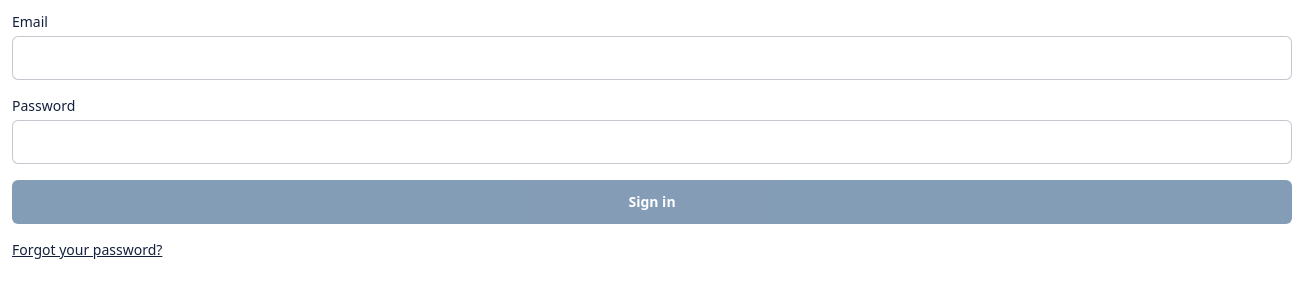
LoginForm › second step › keeps the person on the code step after a wrong code and clears the box
In the field labelled "Email": coordinates (652, 58) [12,36,1292,80], type "ada@example.test"
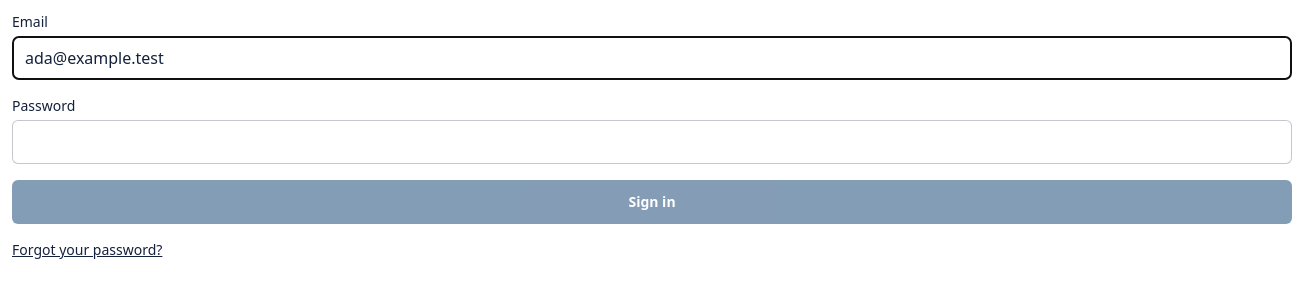
In the password field labelled "Password": coordinates (652, 142) [12,120,1292,164], type "Str0ng-Passphrase-1"
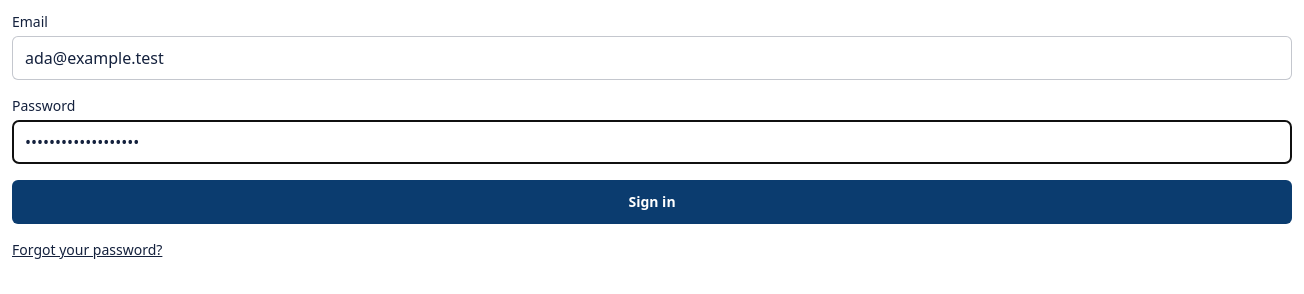
Click the button "Sign in": coordinates (652, 202) [12,180,1292,224]
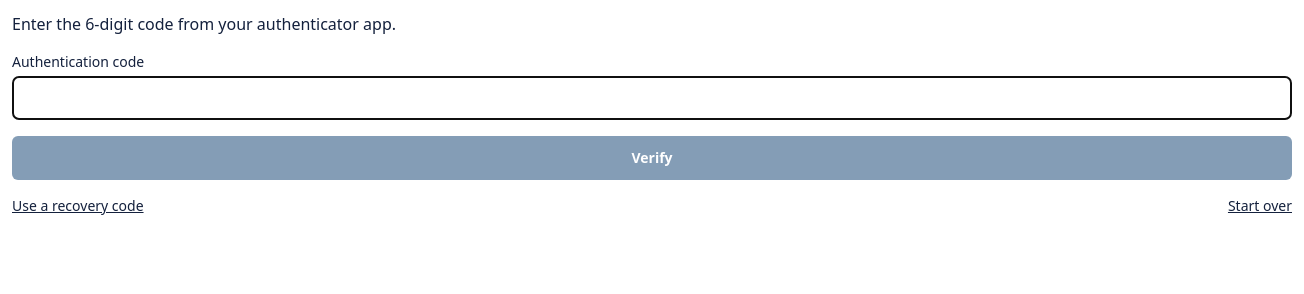
In the field labelled "Authentication code": coordinates (652, 98) [12,76,1292,120], type "000000"
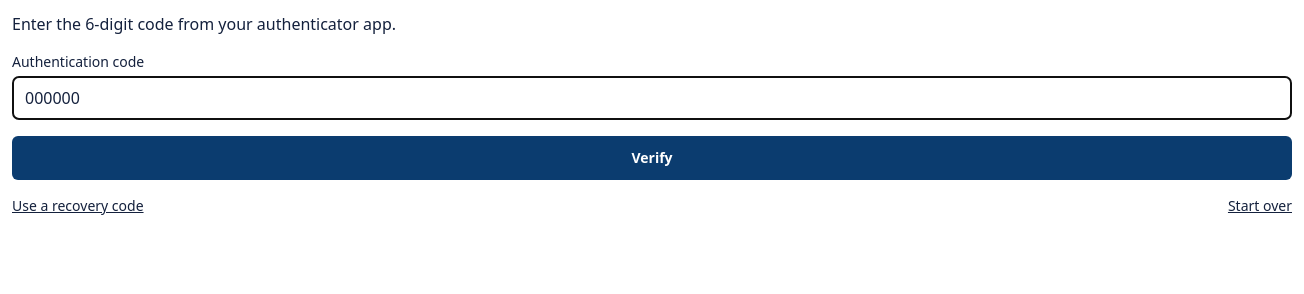
Click the button "Verify": coordinates (652, 158) [12,136,1292,180]
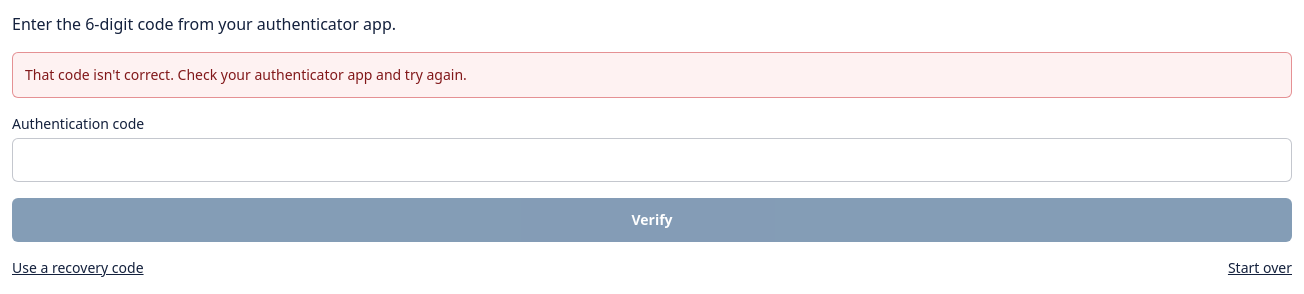
Check: the message shows "That code isn't correct", box [25,65,467,84]
Check: the field labelled "Authentication code" is empty, box [12,138,1292,182]
